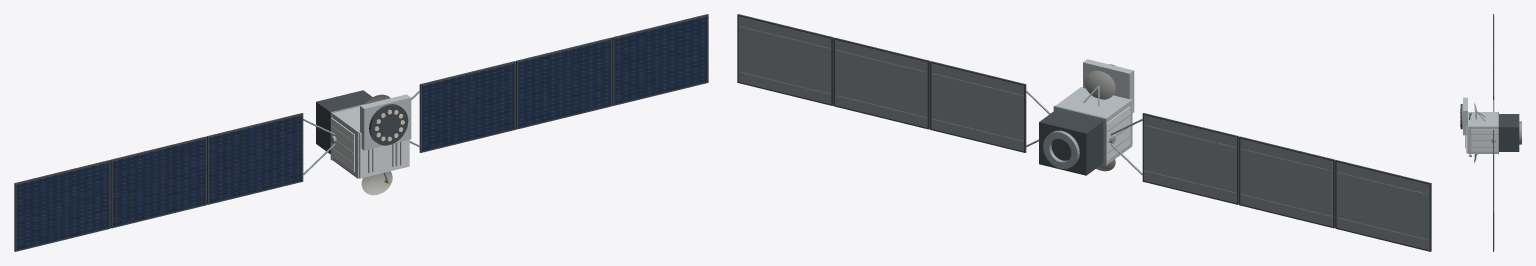
File: ref-a2100m-36868.glb
3 renders of one model, left to right at view 1: azimuth 30°, elevation 25°; view 2: azimuth 150°, elevation 25°; view 3: azimuth 270°, elevation 25°, orthographic. The views are drawn at different scales.
Visible parts, largest first — view 1: Solar cell panel (×6), Solar panel frame (×6), Earth-facing deck, Service module, Antenna equipment shelf, Planar antenna aperture, Radiator face, Payload module, Communications reflector; view 2: Rear array substrate (×6), Solar panel frame (×6), Service module, Payload module, Antenna equipment shelf, Radiator face, Launch adapter ring, Communications reflector, Module interface; view 3: Service module, Payload module, Radiator face, Antenna equipment shelf, Planar antenna aperture, Launch adapter ring, Solar panel frame, Rear array substrate, Earth-facing deck, Radiator seam.
Part boxes in pixels (box(x1,y1,x2,y2)): Solar cell panel (×6): box(16, 16, 707, 250); Solar panel frame (×6): box(14, 14, 708, 251); Earth-facing deck: box(359, 132, 409, 178); Service module: box(316, 90, 372, 154); Antenna equipment shelf: box(360, 94, 411, 150); Planar antenna aperture: box(369, 104, 408, 145); Radiator face: box(331, 117, 354, 171); Payload module: box(332, 106, 360, 178); Communications reflector: box(361, 171, 392, 195); Rear array substrate (×6): box(738, 16, 1429, 250); Solar panel frame (×6): box(737, 14, 1431, 251); Service module: box(1039, 109, 1103, 175); Payload module: box(1055, 87, 1132, 164); Antenna equipment shelf: box(1083, 59, 1134, 112); Radiator face: box(1106, 106, 1130, 160); Launch adapter ring: box(1043, 130, 1079, 168); Communications reflector: box(1084, 70, 1115, 99); Module interface: box(1053, 105, 1106, 166); Service module: box(1499, 114, 1519, 151); Payload module: box(1467, 112, 1497, 153); Radiator face: box(1471, 129, 1498, 151); Antenna equipment shelf: box(1463, 97, 1467, 135); Planar antenna aperture: box(1460, 104, 1462, 129); Launch adapter ring: box(1519, 121, 1521, 144); Solar panel frame: box(1493, 184, 1493, 251); Rear array substrate: box(1494, 186, 1494, 250); Earth-facing deck: box(1466, 126, 1467, 153); Radiator seam: box(1472, 146, 1497, 147).
Size of the model in its own units: 26.96 by 3.7 by 3.55.
9 materials, 1 textured.
